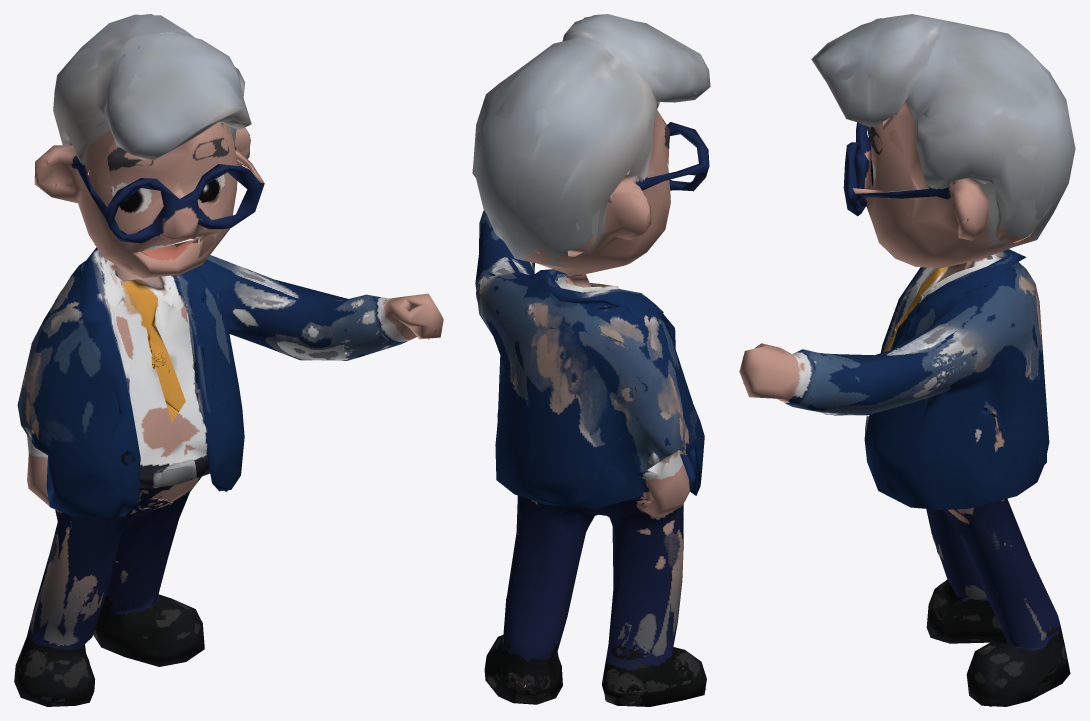
The model's file is presi-web.glb.
The picture shows the model from 3 angles, left to right: view 1: azimuth 30°, elevation 25°; view 2: azimuth 150°, elevation 25°; view 3: azimuth 270°, elevation 25°; orthographic projection. The views are drawn at different scales.
Bounding box in the file's own units: 0.4999 × 0.9738 × 0.4553.
1 material, 1 textured.
